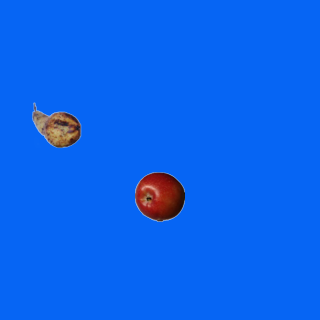Apple Braeburn: (134, 171, 184, 221)
Pear Abate: (31, 100, 81, 150)
